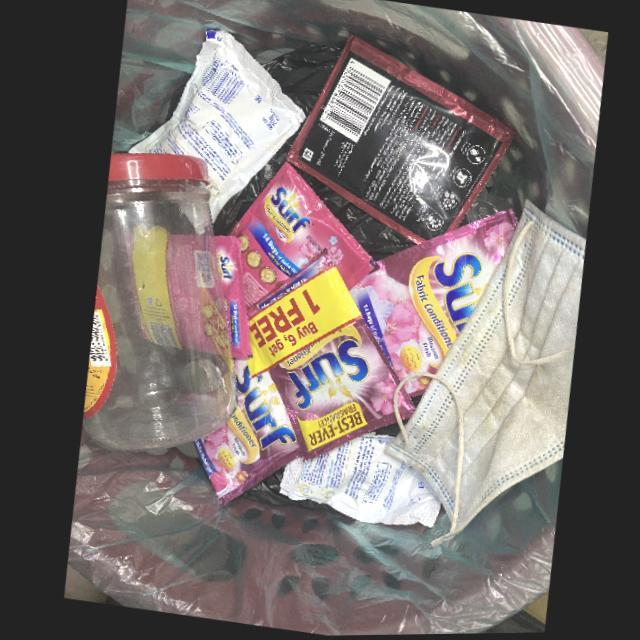plastic: (78, 152, 232, 451)
wrapper: (284, 34, 514, 245), (244, 250, 411, 460), (126, 29, 305, 222), (346, 209, 517, 398), (225, 164, 374, 309), (120, 233, 248, 359), (189, 360, 296, 506), (274, 433, 438, 528)
